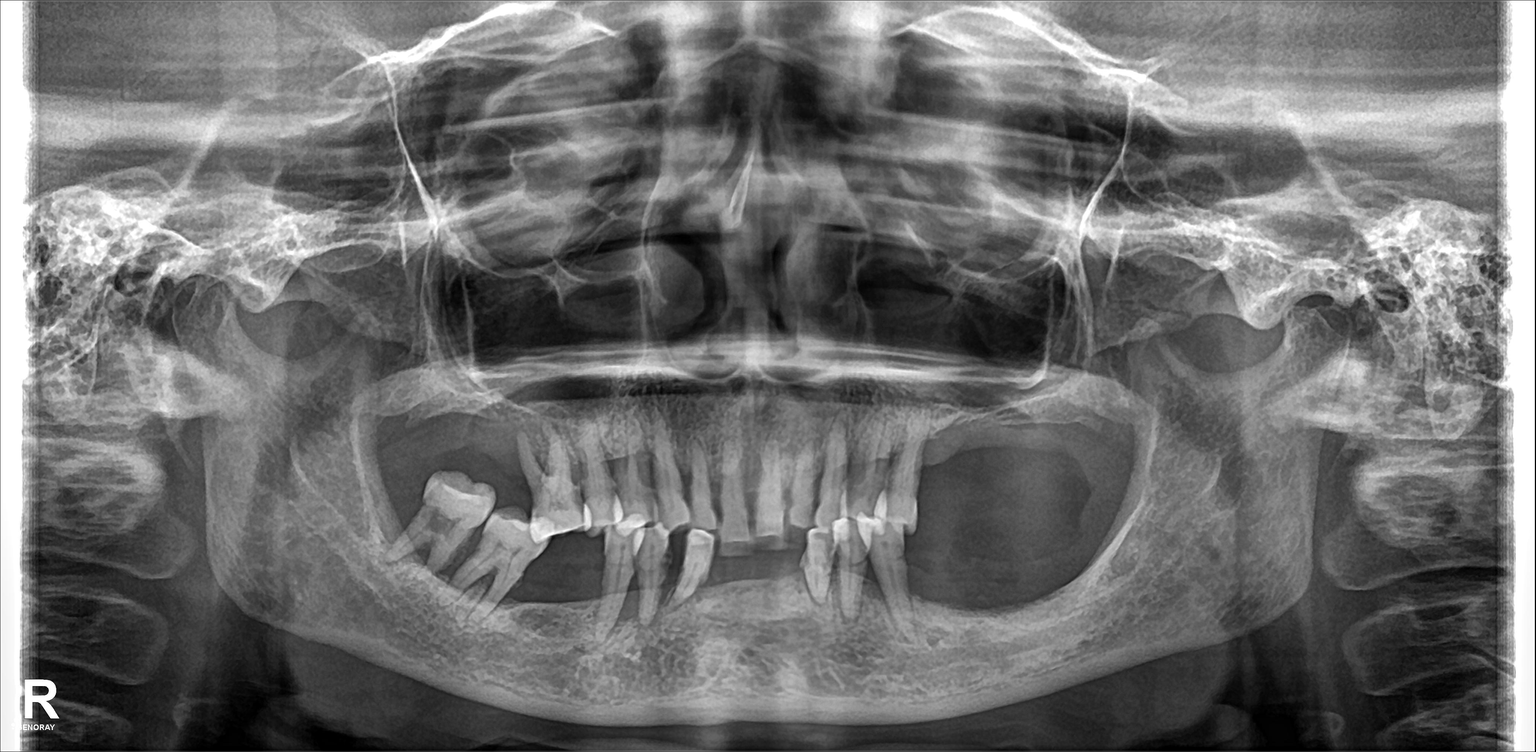Dental Caries: (842, 456, 886, 511)
Missing Tooth: (1013, 400, 1074, 502), (417, 375, 469, 460), (1061, 525, 1113, 609), (365, 389, 414, 475), (909, 530, 955, 621), (542, 549, 588, 636), (477, 378, 520, 468), (968, 408, 1006, 499), (1009, 529, 1052, 609), (924, 419, 962, 509), (963, 530, 1003, 612), (760, 549, 799, 612), (713, 557, 749, 617), (1086, 400, 1113, 471)
